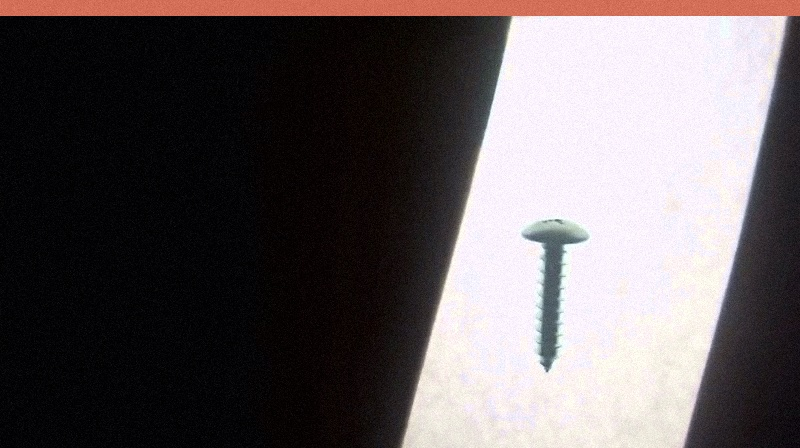S003: (518, 212, 593, 374)
